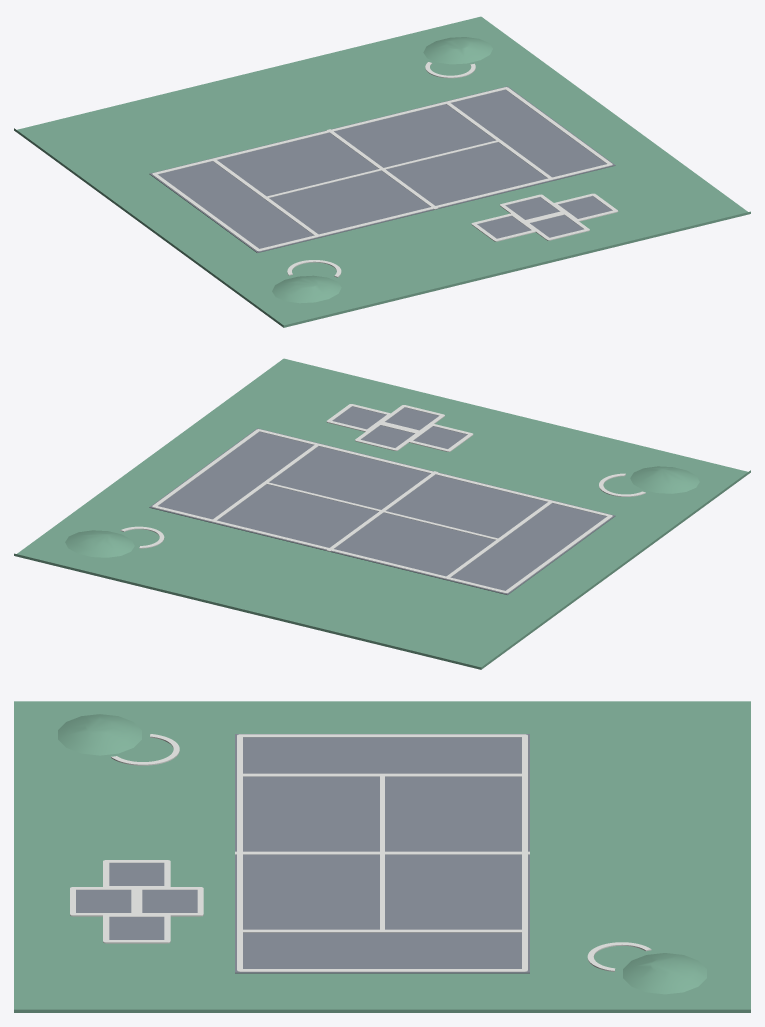
3 views of the same model, one above another, from view 1: azimuth 30°, elevation 25°; view 2: azimuth 150°, elevation 25°; view 3: azimuth 270°, elevation 25° (orthographic). The views are drawn at different scales.
Visible parts, largest first — view 1: Safety_Pad, Court_Inlay, Line_Inlay, Terrain; view 2: Safety_Pad, Court_Inlay, Line_Inlay, Terrain; view 3: Safety_Pad, Court_Inlay, Line_Inlay, Terrain.
Boxes of the visible parts, x1,y1,x2,y2 form: Safety_Pad: (14, 16, 750, 327); Court_Inlay: (149, 86, 615, 252); Line_Inlay: (152, 62, 618, 277); Terrain: (272, 37, 492, 303); Safety_Pad: (14, 358, 750, 669); Court_Inlay: (149, 406, 615, 594); Line_Inlay: (120, 404, 645, 593); Terrain: (65, 466, 699, 557); Safety_Pad: (14, 701, 750, 1012); Court_Inlay: (76, 734, 529, 973); Line_Inlay: (70, 734, 651, 971); Terrain: (58, 714, 706, 994).
Size of what is drawn, in the model's own units: 6 by 0.1 by 6.
